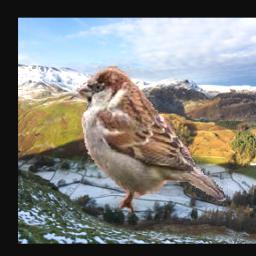Sparrow: (77, 66, 228, 213)
